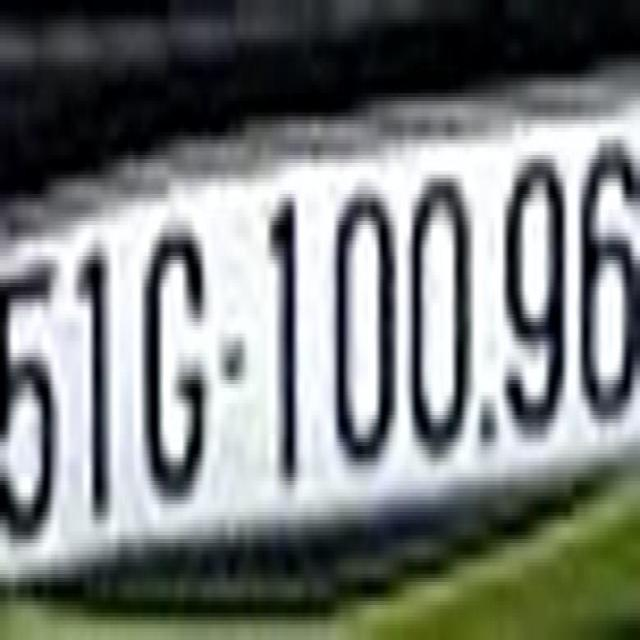0: (333, 170, 398, 454), (414, 182, 468, 454)
1: (75, 232, 112, 520), (266, 190, 300, 473)
5: (0, 263, 57, 539)
6: (580, 128, 638, 446)
9: (503, 155, 561, 431)
G: (144, 217, 208, 497)
